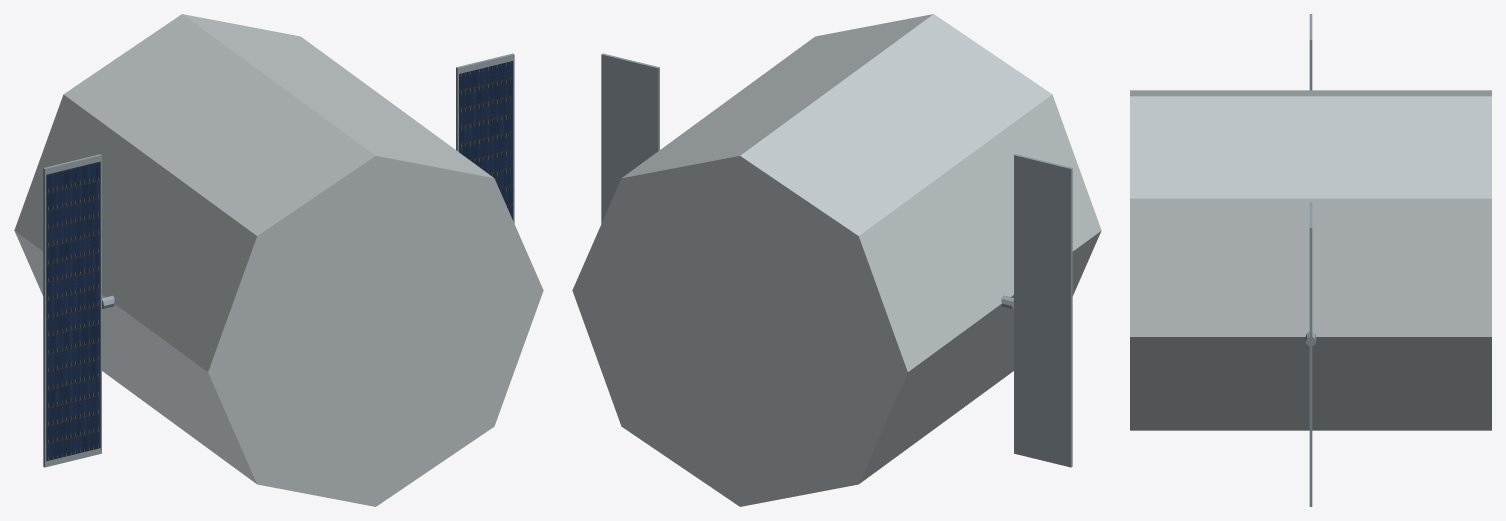
Rendered from ref-sac-25550.glb.
3 views of the same model, side by side, from view 1: azimuth 30°, elevation 25°; view 2: azimuth 150°, elevation 25°; view 3: azimuth 270°, elevation 25° (orthographic). The views are drawn at different scales.
Parts seen in each view (by area): view 1: Spacecraft body, Photovoltaic laminates (×2), Array frame (×2); view 2: Spacecraft body, Array frame (×2); view 3: Spacecraft body, Array frame.
Part boxes in pixels (bbox=[...]): Spacecraft body: bbox=[14, 14, 543, 506]; Photovoltaic laminates (×2): bbox=[46, 61, 513, 461]; Array frame (×2): bbox=[43, 53, 514, 467]; Spacecraft body: bbox=[572, 14, 1101, 506]; Array frame (×2): bbox=[601, 53, 1072, 467]; Spacecraft body: bbox=[1130, 90, 1491, 430]; Array frame: bbox=[1309, 202, 1312, 506].
Bounding box in the file's own units: 0.7 × 0.5 × 0.5.
3 materials, 1 textured.
